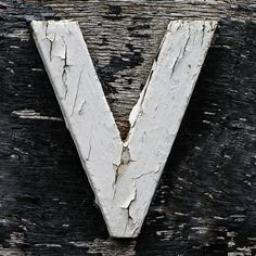v: (25, 16, 225, 238)
